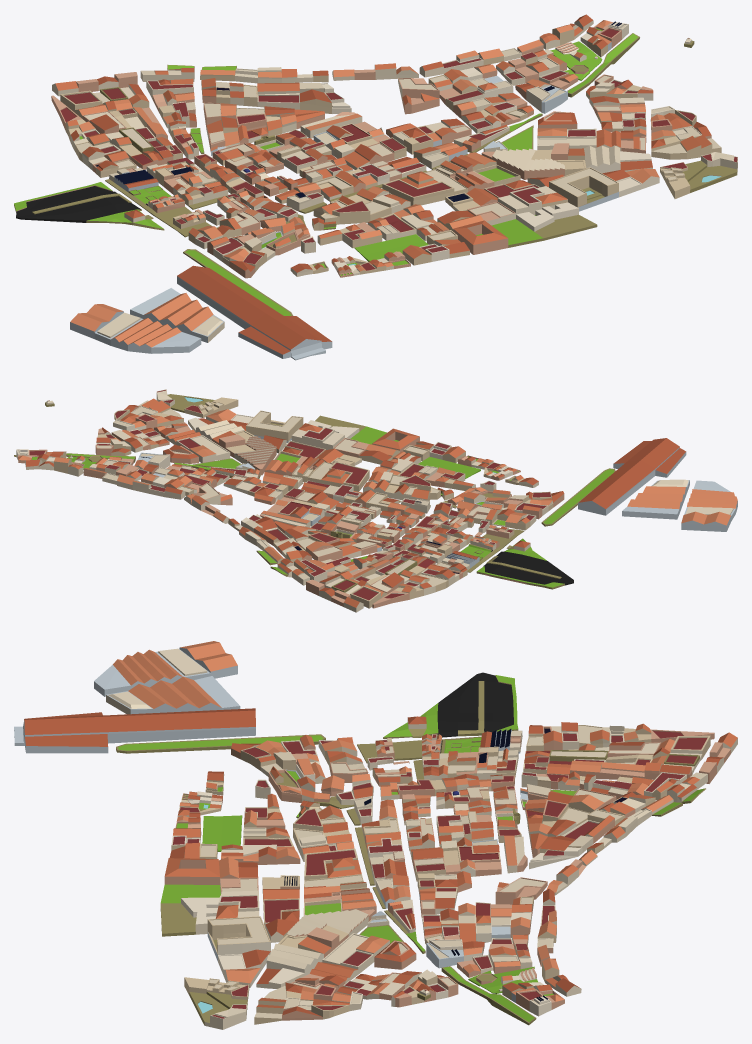
Rendered from houses.glb.
3 renders of one model, top to bottom at view 1: azimuth 30°, elevation 25°; view 2: azimuth 150°, elevation 25°; view 3: azimuth 270°, elevation 25°, orthographic. The views are drawn at different scales.
Visible parts, largest first — view 1: CasasPueblo; view 2: CasasPueblo; view 3: CasasPueblo.
Part boxes in pixels (bbox=[...]): CasasPueblo: bbox=[14, 14, 737, 360]; CasasPueblo: bbox=[14, 389, 737, 612]; CasasPueblo: bbox=[14, 641, 737, 1029].
Bounding box in the file's own units: 1276 × 93.42 × 974.
